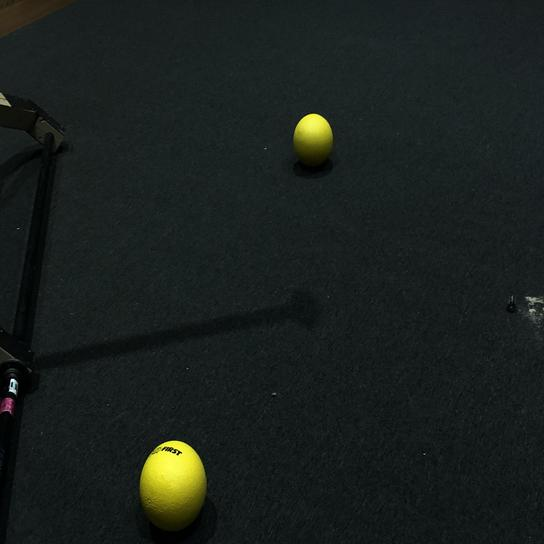ball: (137, 436, 209, 533), (291, 111, 337, 174)
